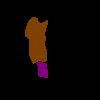fuseaux: (36, 60, 48, 78)
vestito: (24, 16, 48, 64)
